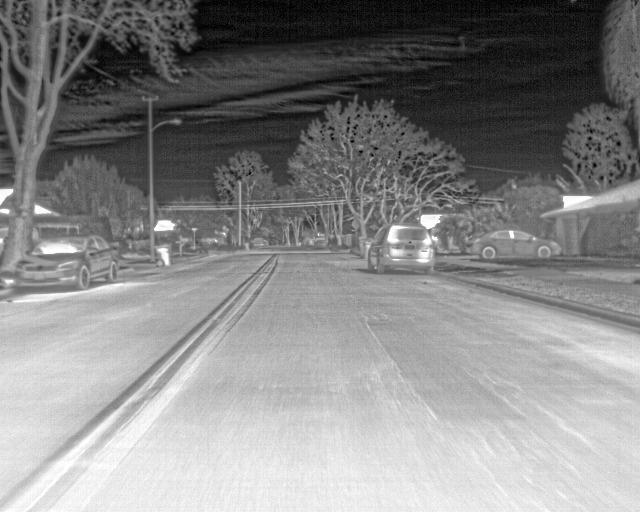vehicle: (16, 231, 122, 296), (369, 221, 437, 274), (471, 229, 565, 264)
